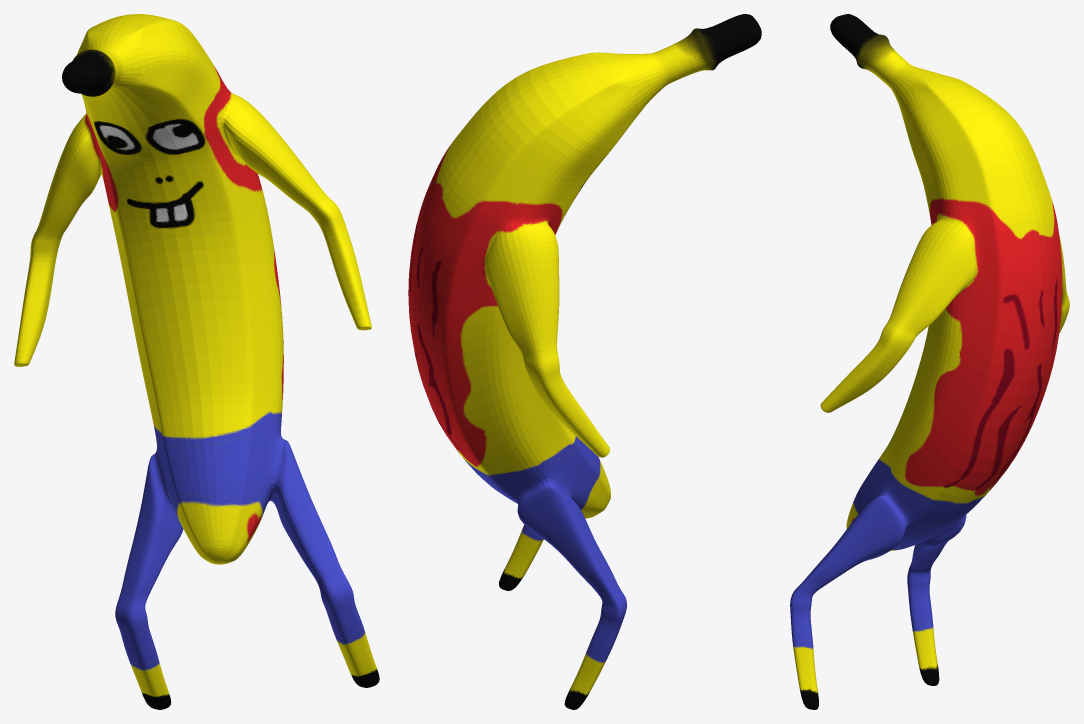
File: Banana_custom.fbx
The picture shows the model from 3 angles, left to right: view 1: azimuth 30°, elevation 25°; view 2: azimuth 150°, elevation 25°; view 3: azimuth 270°, elevation 25°; orthographic projection. The views are drawn at different scales.
Parts seen in each view (by area): view 1: node_id4; view 2: node_id4; view 3: node_id4.
Part boxes in pixels (x1=…): node_id4: x1=14, y1=14, x2=379, y2=709; node_id4: x1=408, y1=14, x2=761, y2=709; node_id4: x1=790, y1=14, x2=1069, y2=709.
Size of the model in its own units: 0.2242 by 0.5024 by 0.2071.
Materials: 1 (1 with a texture image).
